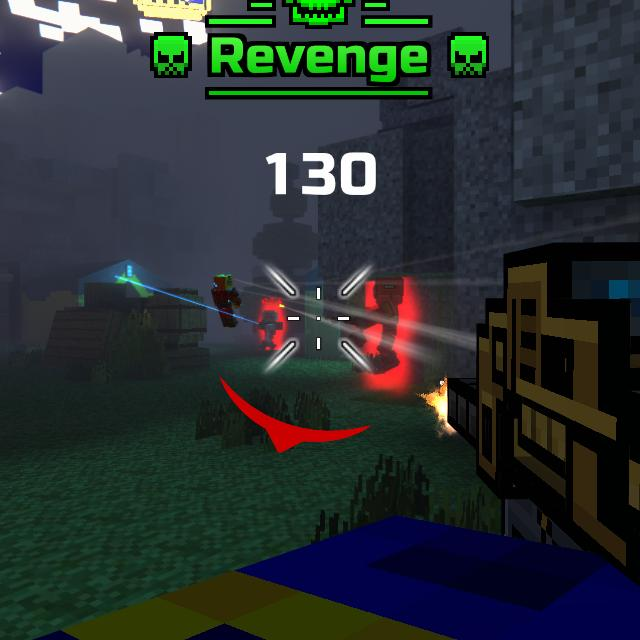Enemy: (363, 280, 404, 374), (259, 309, 284, 350)
